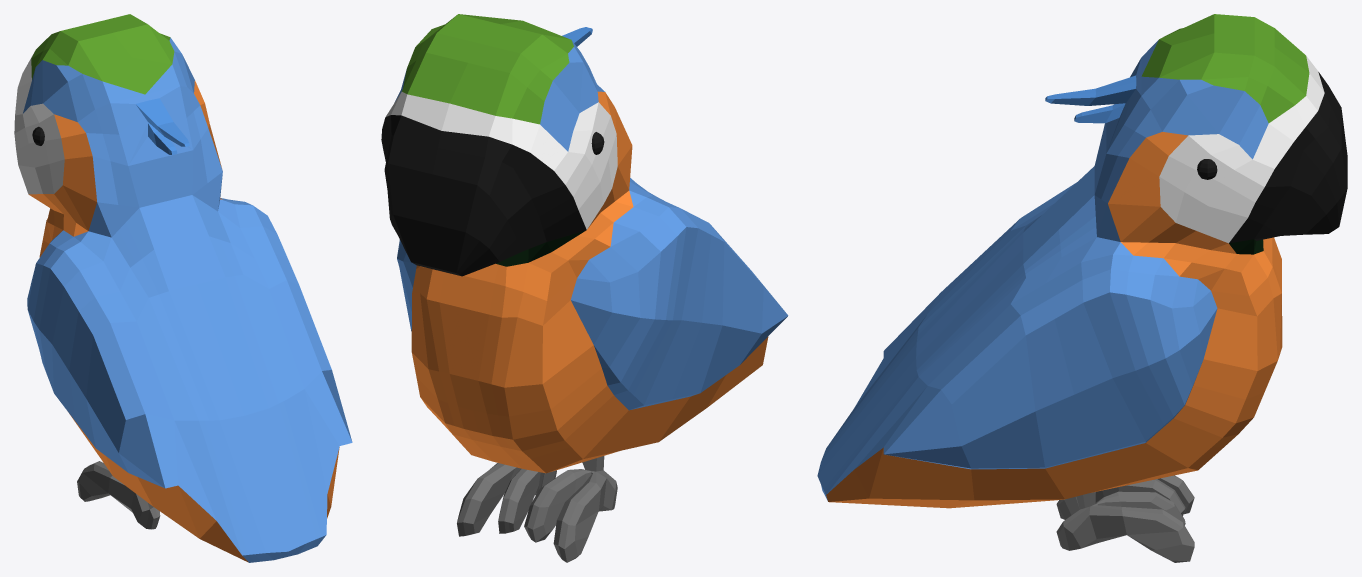
File: Parrot 1.fbx
3 renders of one model, left to right at view 1: azimuth 30°, elevation 25°; view 2: azimuth 150°, elevation 25°; view 3: azimuth 270°, elevation 25°, orthographic. The views are drawn at different scales.
Visible parts, largest first — view 1: Parrot; view 2: Parrot; view 3: Parrot.
Part boxes in pixels (x1=…): Parrot: x1=14, y1=14, x2=352, y2=562; Parrot: x1=381, y1=14, x2=788, y2=562; Parrot: x1=817, y1=14, x2=1347, y2=562.
Size of the model in its own units: 62.94 by 123 by 117.
